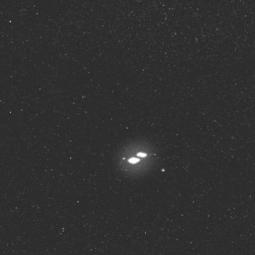proba_3_ocs: (111, 129, 176, 187)
